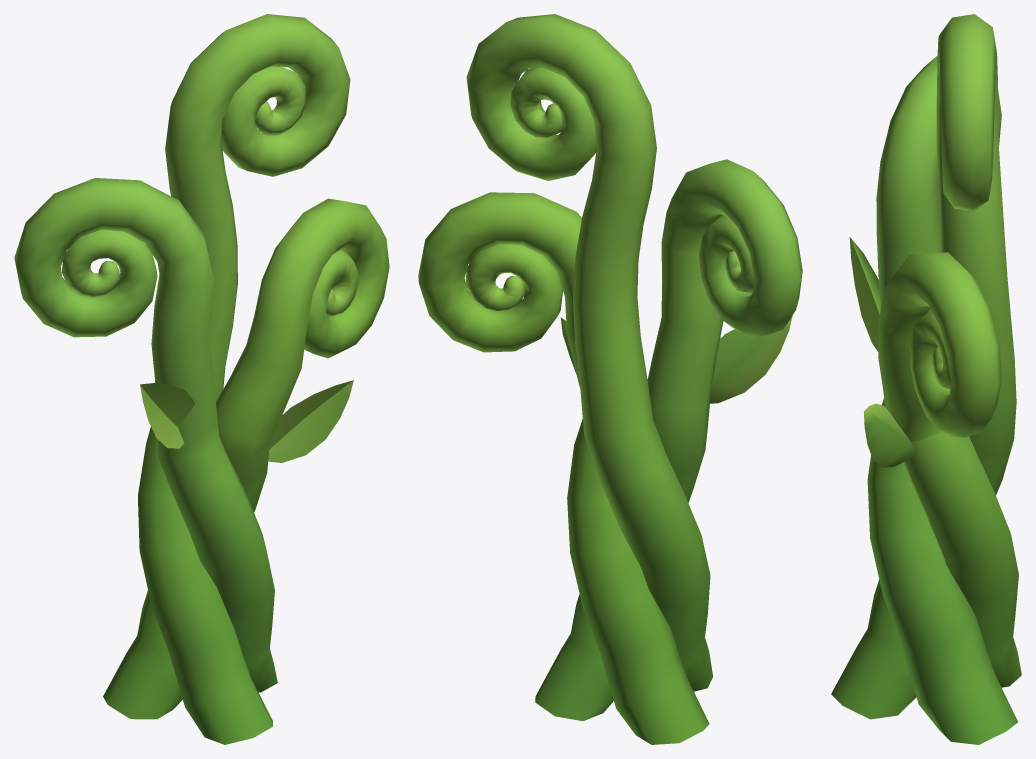
File: Roots_Remake_B.glb
3 views of the same model, side by side, from view 1: azimuth 30°, elevation 25°; view 2: azimuth 150°, elevation 25°; view 3: azimuth 270°, elevation 25° (orthographic). The views are drawn at different scales.
Parts seen in each view (by area): view 1: Roots_Remake_B; view 2: Roots_Remake_B; view 3: Roots_Remake_B.
Part boxes in pixels (x1,y1,x2,y2): Roots_Remake_B: [14, 14, 389, 744]; Roots_Remake_B: [418, 14, 802, 744]; Roots_Remake_B: [831, 14, 1021, 744].
Bounding box in the file's own units: 1.85 × 3.15 × 0.7649.
